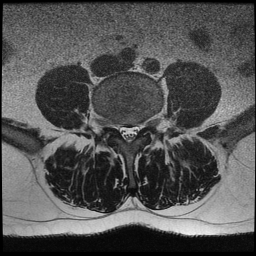CCS_normal: (125, 118, 132, 150)
LFS_normal: (141, 112, 149, 137)
LLS_stenosis: (133, 118, 140, 143)
RFS_stenosis: (109, 113, 117, 137)
RLS_normal: (117, 117, 125, 143)
